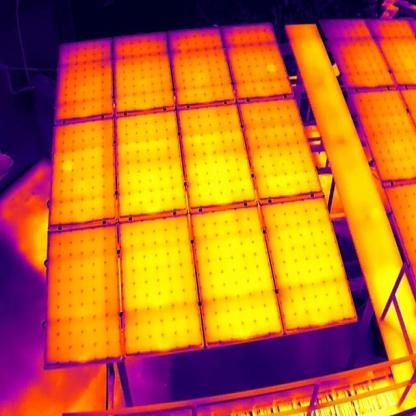anomaly: (264, 61, 278, 75)
